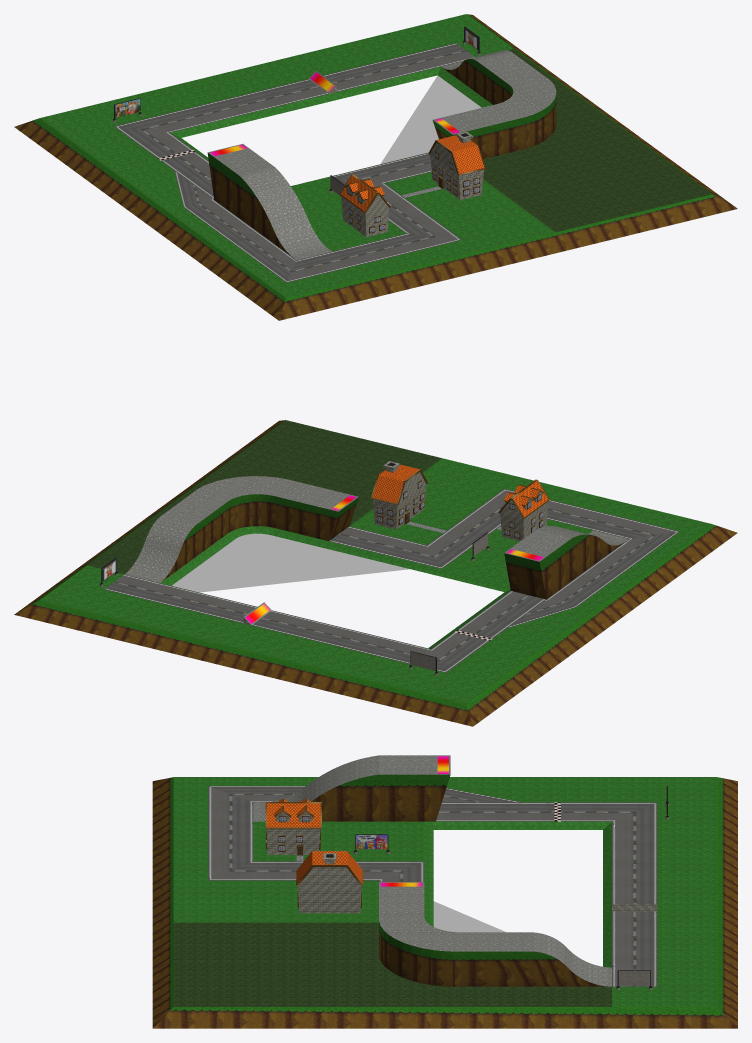
The picture shows the model from 3 angles, top to bottom: view 1: azimuth 30°, elevation 25°; view 2: azimuth 150°, elevation 25°; view 3: azimuth 270°, elevation 25°; orthographic projection. The views are drawn at different scales.
Parts seen in each view (by area): view 1: race-SKP-grass, race-SKP-hillwall, race-SKP-road, race-SKP-outofboundsgrass, race-SKP-hillroad, race-SKP-Default_Material, race-SKP-MarioHouseBrick, race-SKP-MarioHouseRoof, race-SKP-MarioHouseBorder, race-SKP-MarioHouseWindow, race-SKP-boost; view 2: race-SKP-grass, race-SKP-hillwall, race-SKP-road, race-SKP-outofboundsgrass, race-SKP-hillroad, race-SKP-Default_Material, race-SKP-MarioHouseBrick, race-SKP-MarioHouseRoof, race-SKP-MarioHouseBorder, race-SKP-MarioHouseWindow, race-SKP-Concretes; view 3: race-SKP-grass, race-SKP-hillwall, race-SKP-outofboundsgrass, race-SKP-road, race-SKP-hillroad, race-SKP-MarioHouseBrick, race-SKP-MarioHouseRoof, race-SKP-Default_Material, race-SKP-MarioHouseBorder, race-SKP-Concretes, race-SKP-ad2.
Part boxes in pixels (x1=…): race-SKP-grass: x1=40, y1=14, x2=555, y2=298; race-SKP-hillwall: x1=14, y1=14, x2=737, y2=320; race-SKP-road: x1=114, y1=43, x2=474, y2=282; race-SKP-outofboundsgrass: x1=483, y1=49, x2=711, y2=232; race-SKP-hillroad: x1=214, y1=50, x2=556, y2=260; race-SKP-Default_Material: x1=380, y1=75, x2=481, y2=164; race-SKP-MarioHouseBrick: x1=329, y1=86, x2=483, y2=237; race-SKP-MarioHouseRoof: x1=341, y1=135, x2=484, y2=211; race-SKP-MarioHouseBorder: x1=339, y1=140, x2=485, y2=233; race-SKP-MarioHouseWindow: x1=347, y1=151, x2=479, y2=233; race-SKP-boost: x1=210, y1=72, x2=459, y2=156; race-SKP-grass: x1=40, y1=458, x2=711, y2=703; race-SKP-hillwall: x1=14, y1=420, x2=737, y2=726; race-SKP-road: x1=104, y1=488, x2=679, y2=672; race-SKP-outofboundsgrass: x1=87, y1=420, x2=441, y2=574; race-SKP-hillroad: x1=125, y1=476, x2=628, y2=582; race-SKP-Default_Material: x1=172, y1=533, x2=409, y2=592; race-SKP-MarioHouseBrick: x1=243, y1=461, x2=547, y2=625; race-SKP-MarioHouseRoof: x1=372, y1=464, x2=548, y2=516; race-SKP-MarioHouseBorder: x1=371, y1=469, x2=549, y2=538; race-SKP-MarioHouseWindow: x1=376, y1=480, x2=542, y2=538; race-SKP-Concretes: x1=100, y1=533, x2=489, y2=675; race-SKP-grass: x1=173, y1=777, x2=717, y2=1006; race-SKP-hillwall: x1=152, y1=774, x2=737, y2=1028; race-SKP-outofboundsgrass: x1=173, y1=922, x2=611, y2=1006; race-SKP-road: x1=208, y1=786, x2=657, y2=986; race-SKP-hillroad: x1=253, y1=755, x2=611, y2=986; race-SKP-MarioHouseBrick: x1=266, y1=812, x2=657, y2=913; race-SKP-MarioHouseRoof: x1=266, y1=799, x2=362, y2=883; race-SKP-Default_Material: x1=433, y1=901, x2=505, y2=932; race-SKP-MarioHouseBorder: x1=265, y1=799, x2=363, y2=907; race-SKP-Concretes: x1=353, y1=803, x2=669, y2=990; race-SKP-ad2: x1=356, y1=835, x2=387, y2=849.
Size of what is drawn, in the model's own units: 45887 by 5983 by 56768.
20 materials, 19 textured.
